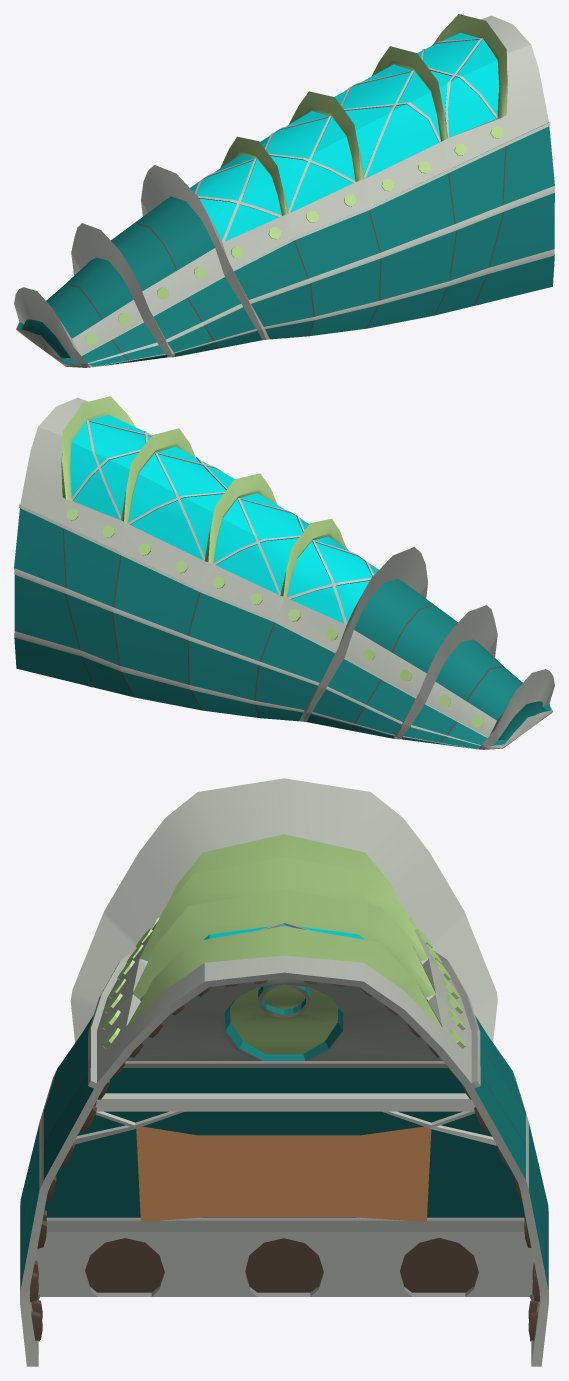
Rendered from SM_museo.fbx.
3 views of the same model, one above another, from view 1: azimuth 30°, elevation 25°; view 2: azimuth 150°, elevation 25°; view 3: azimuth 270°, elevation 25° (orthographic). The views are drawn at different scales.
Visible parts, largest first — view 1: SM_museo; view 2: SM_museo; view 3: SM_museo.
Boxes of the visible parts, x1=… form: SM_museo: x1=14, y1=14, x2=554, y2=367; SM_museo: x1=14, y1=396, x2=554, y2=749; SM_museo: x1=20, y1=778, x2=548, y2=1366.
Bounding box in the file's own units: 2559 × 1129 × 1233.
